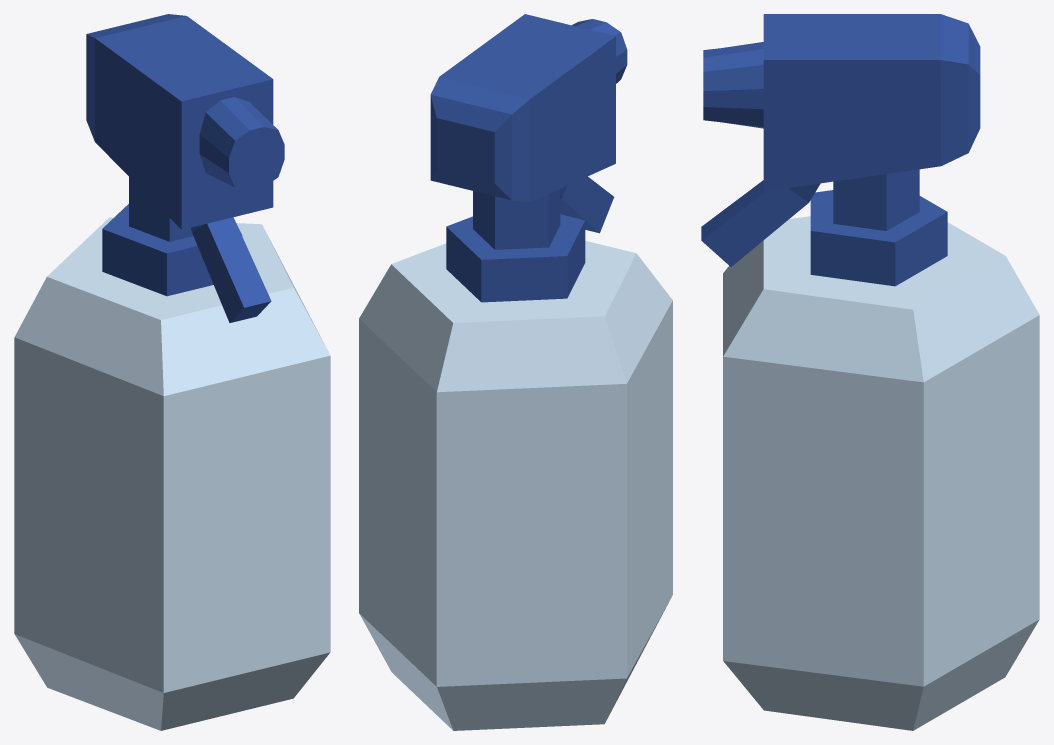
The model's file is spray_gun.fbx.
3 renders of one model, left to right at view 1: azimuth 30°, elevation 25°; view 2: azimuth 150°, elevation 25°; view 3: azimuth 270°, elevation 25°, orthographic. The views are drawn at different scales.
Parts seen in each view (by area): view 1: spray_gun; view 2: spray_gun; view 3: spray_gun.
Part boxes in pixels (x1,y1,x2,y2): spray_gun: [14, 14, 330, 730]; spray_gun: [359, 14, 672, 730]; spray_gun: [701, 14, 1039, 730].
Size of the model in its own units: 30.55 by 67.61 by 32.4.
